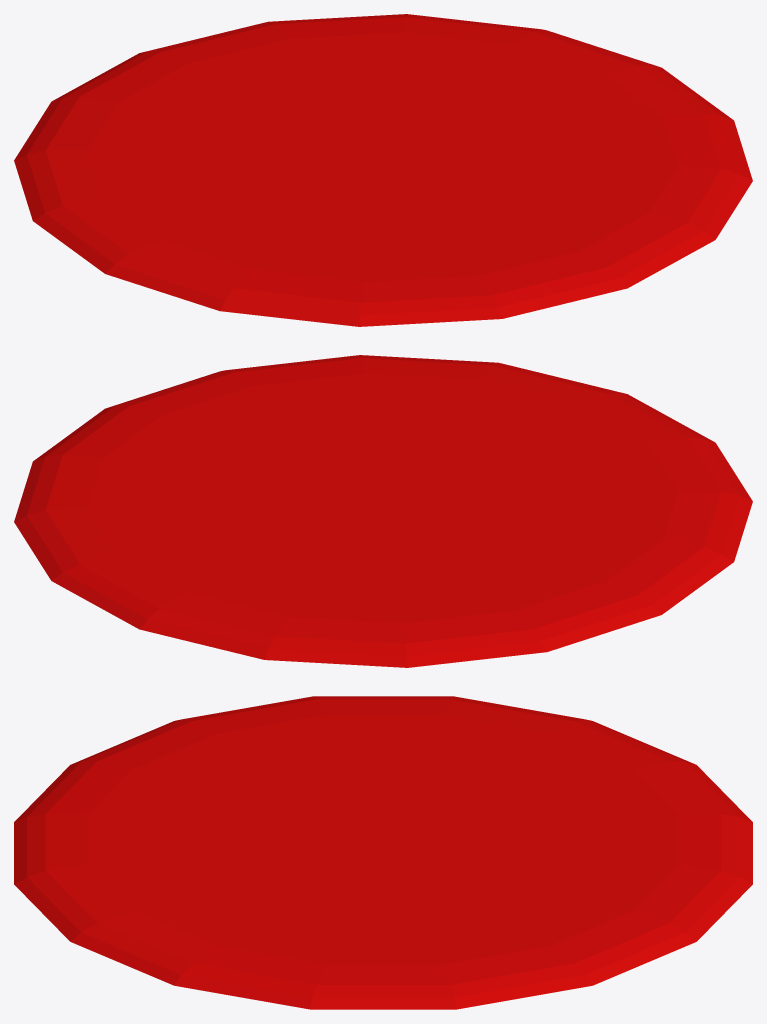
Rendered from Driver.fbx.
3 views of the same model, one above another, from view 1: azimuth 30°, elevation 25°; view 2: azimuth 150°, elevation 25°; view 3: azimuth 270°, elevation 25° (orthographic).
Visible parts, largest first — view 1: Putter.002; view 2: Putter.002; view 3: Putter.002.
Part boxes in pixels (x1=…): Putter.002: x1=14, y1=14, x2=752, y2=326; Putter.002: x1=14, y1=355, x2=752, y2=667; Putter.002: x1=14, y1=696, x2=752, y2=1009.
Size of the model in its own units: 196 by 5.3 by 196.
